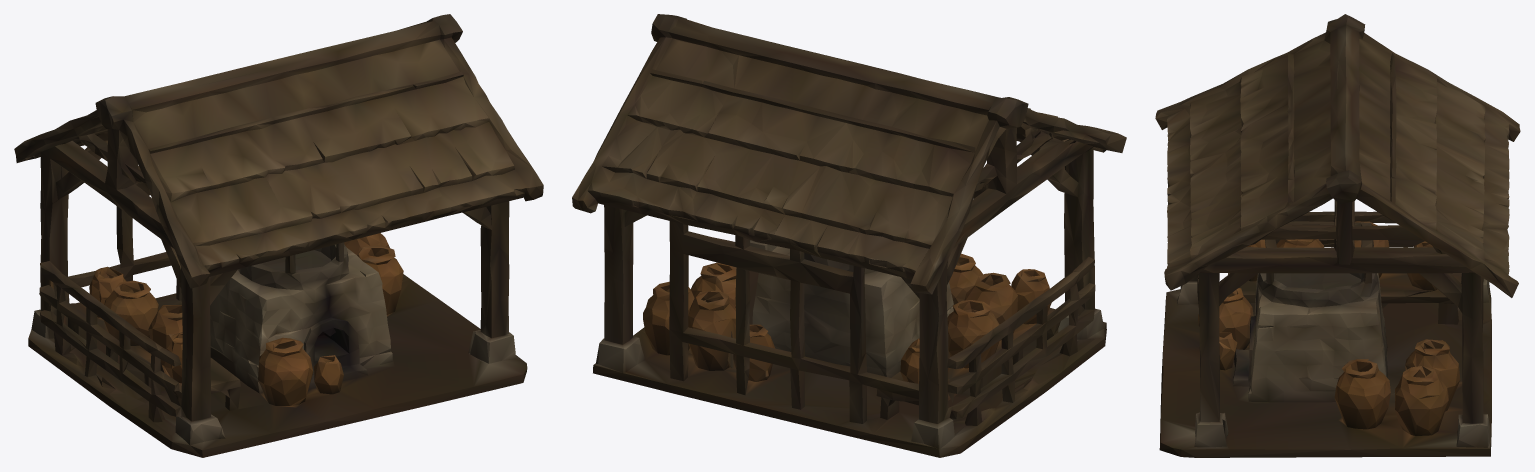
File: bq_pottery.vc.glb
3 views of the same model, side by side, from view 1: azimuth 30°, elevation 25°; view 2: azimuth 150°, elevation 25°; view 3: azimuth 270°, elevation 25° (orthographic). The views are drawn at different scales.
Parts seen in each view (by area): view 1: bq_pottery; view 2: bq_pottery; view 3: bq_pottery.
Boxes of the visible parts, <box> form: bq_pottery: <box>14,14,543,457</box>; bq_pottery: <box>572,14,1126,457</box>; bq_pottery: <box>1155,14,1520,457</box>.
Bounding box in the file's own units: 1.9 × 1.47 × 1.71.
